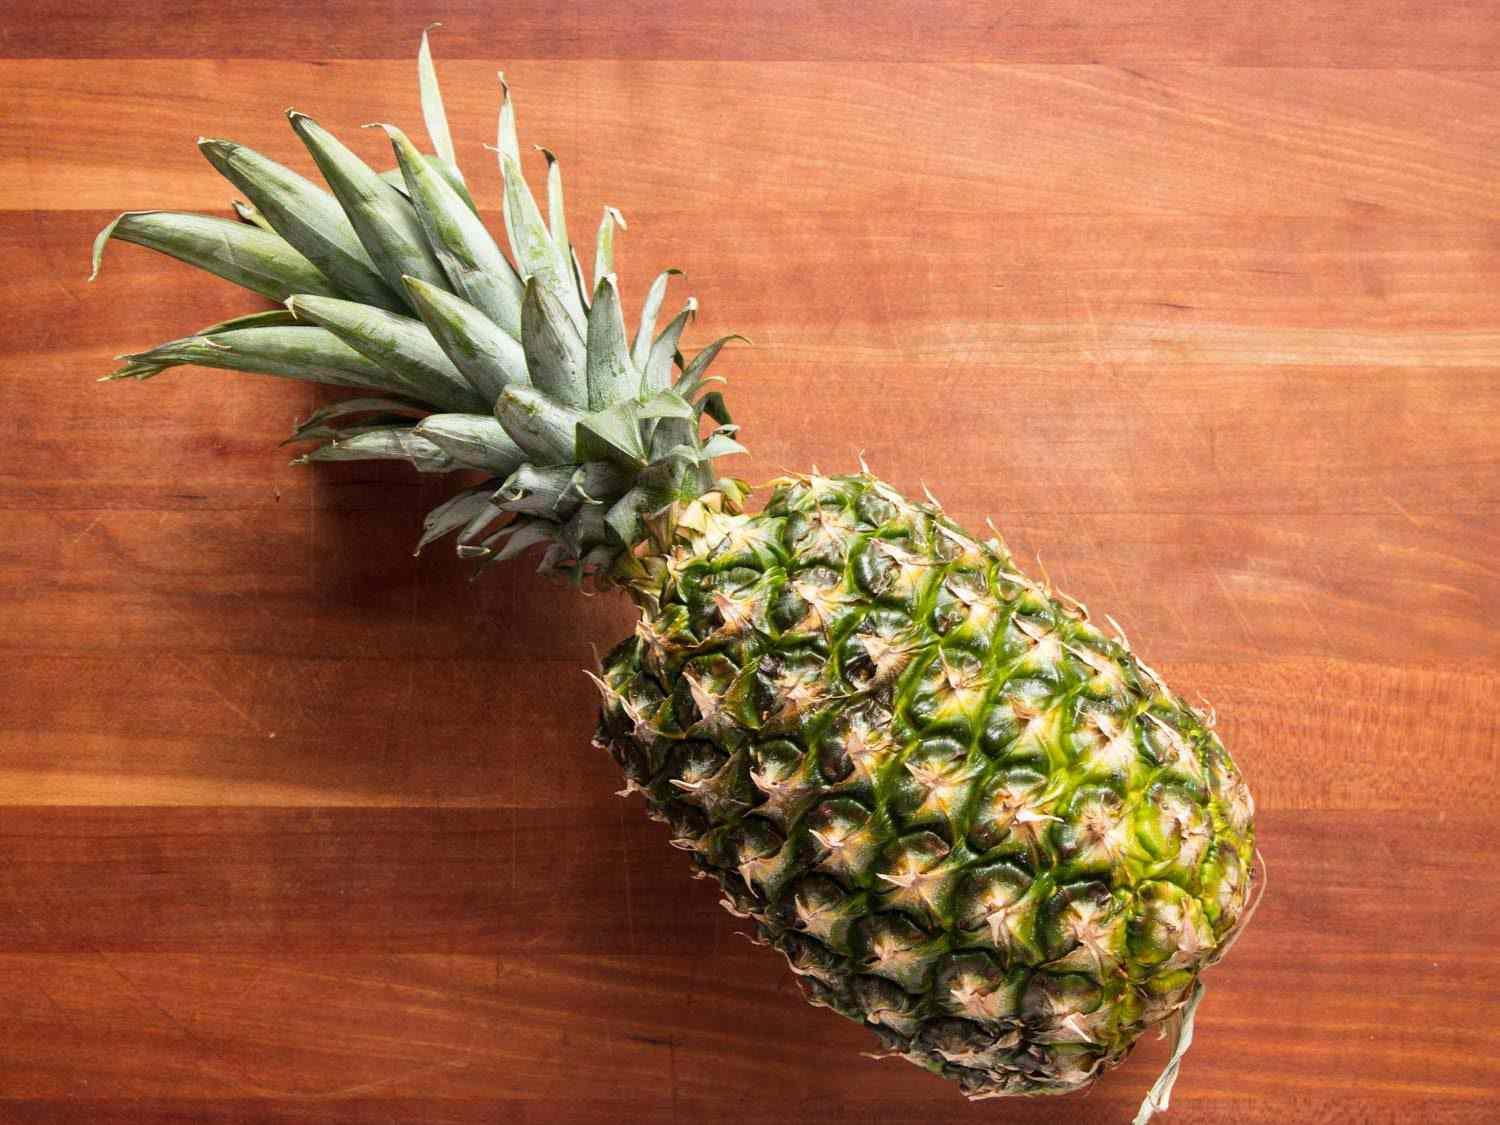pineapple: (80, 31, 1264, 1113)
